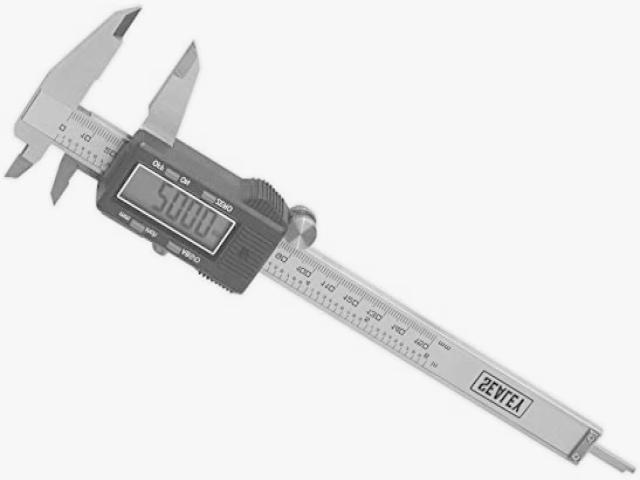Calipers: (6, 8, 637, 473)
